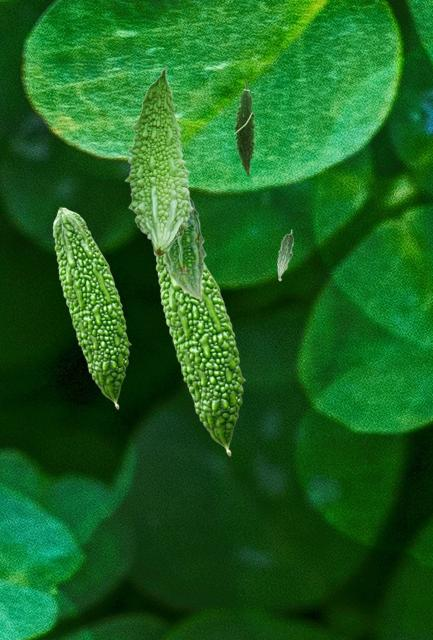ampalaya: (153, 253, 246, 456), (52, 206, 132, 410), (124, 65, 194, 256), (163, 198, 206, 300), (232, 78, 258, 178), (276, 229, 294, 281)
